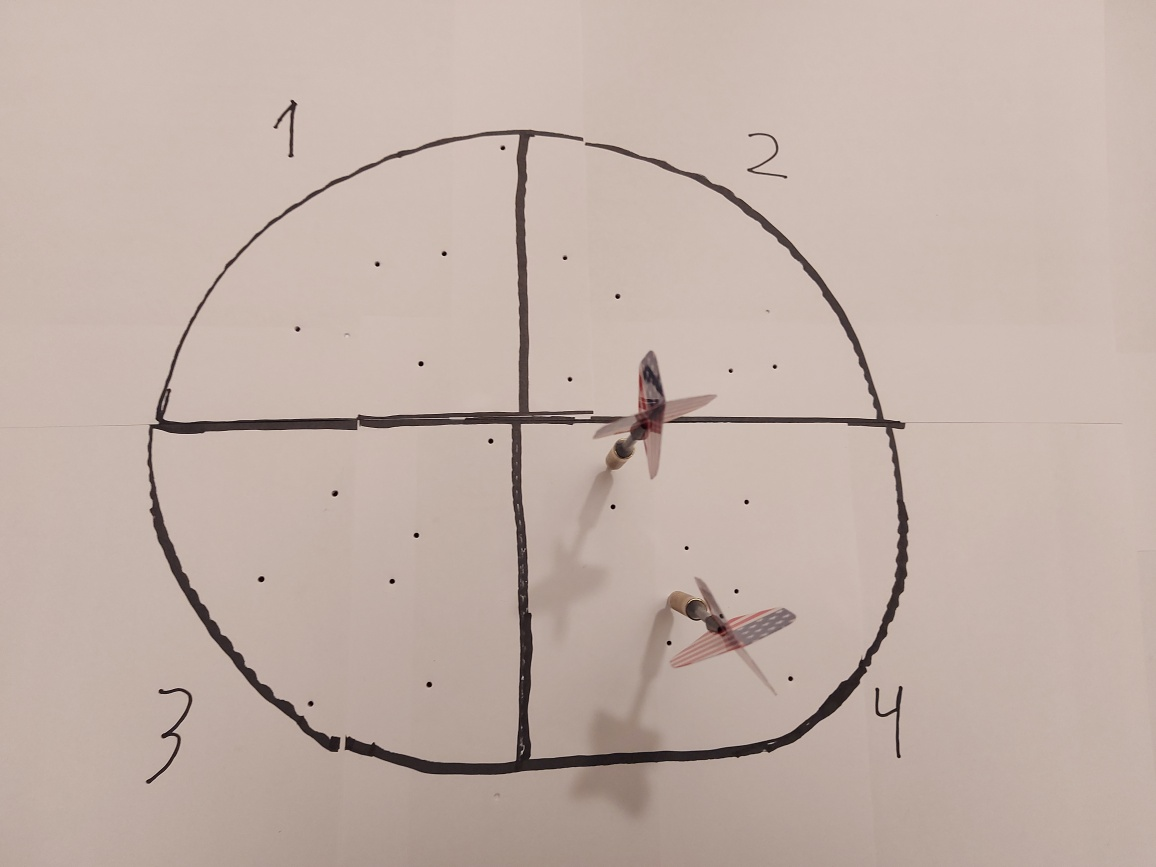Dart: (657, 564, 806, 703), (586, 342, 721, 492)
